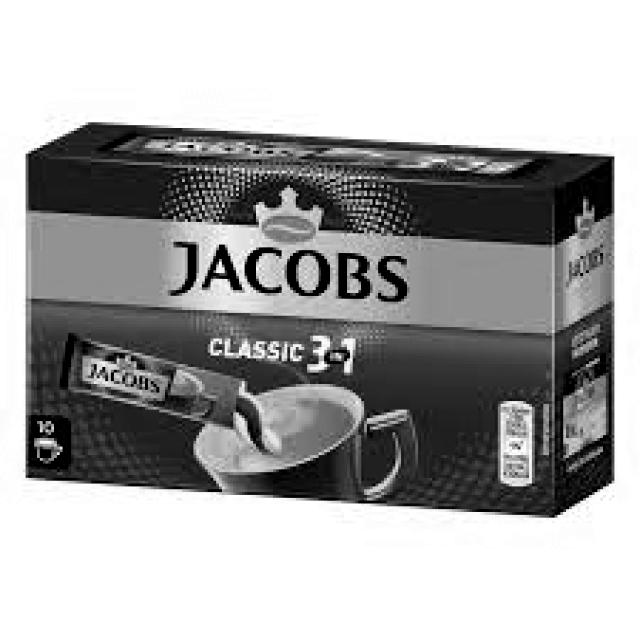jacobs: (116, 173, 466, 323)
